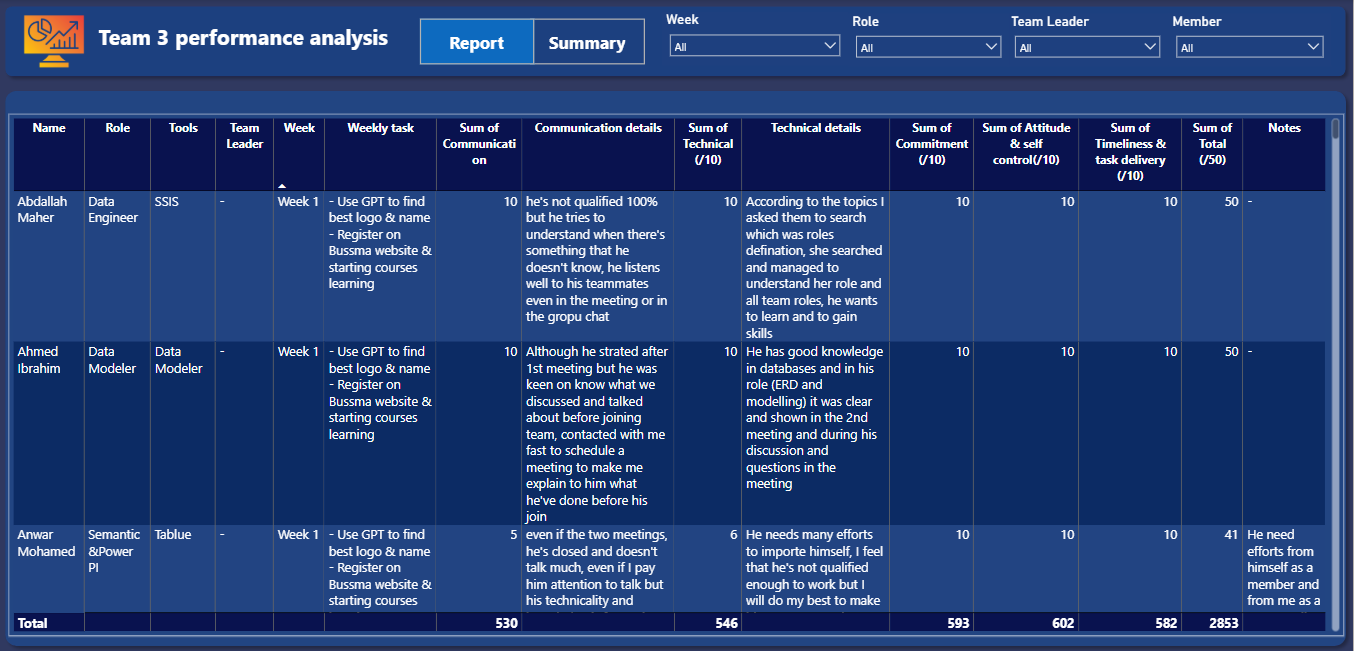

Layout of this report page (visuals, bound fields, positions):
{"tool":"powerbi","page":{"name":"Report","canvas":[1700,820],"ordinal":1},"visuals":[{"type":"shape","box":[0,0,1700.3,105.9],"z":0},{"type":"image","box":[20.5,3.2,97.9,99.5],"z":1000},{"type":"textbox","box":[121.1,24.2,389.5,67.1],"z":2000},{"type":"slicer","title":"Member","fields":{"Values":["full intern.Name "]},"box":[1468.9,17.6,204,66.7],"z":3000},{"type":"slicer","title":"Week","fields":{"Values":["full intern.Week"]},"box":[833.5,15.7,233.4,66.7],"z":4000},{"type":"actionButton","box":[669,24.2,143.5,57.8],"z":5000},{"type":"actionButton","box":[529.2,24.2,143.5,57.8],"z":6000},{"type":"slicer","title":"Team Leader","fields":{"Values":["full intern.Team Leader"]},"box":[1266.9,17.6,202,66.7],"z":7000},{"type":"slicer","title":"Role","fields":{"Values":["full intern.Role"]},"box":[1066.8,17.6,202,66.7],"z":8000},{"type":"shape","box":[0,105.6,1700.8,714.6],"z":9000},{"type":"tableEx","title":"fvfd","fields":{"Values":["full intern.Name ","full intern.Role","full intern.Tools","full intern.Team Leader","full intern.Week","full intern.Weekly task","Sum(full intern.Communication)","full intern.Communication details","Sum(full intern.Technical (/10))","full intern.Technical details","Sum(full intern.Commitment(/10))","Sum(full intern.Attitude & self control(/10))"]},"box":[13.2,143.3,1676.3,656.2],"z":10000}]}

Visuals, with their boxes in screenshot pixels (x1, y1, x2, y2), scaled from the page's 1700x820 canvas onto the 1354x651 screenshot:
shape: box=[0, 0, 1353, 84]
image: box=[16, 3, 94, 82]
textbox: box=[96, 19, 407, 72]
"Member" slicer: box=[1170, 14, 1332, 67]
"Week" slicer: box=[664, 12, 850, 65]
actionButton: box=[533, 19, 647, 65]
actionButton: box=[421, 19, 536, 65]
"Team Leader" slicer: box=[1009, 14, 1170, 67]
"Role" slicer: box=[850, 14, 1011, 67]
shape: box=[0, 84, 1353, 650]
"fvfd" tableEx: box=[11, 114, 1346, 635]
